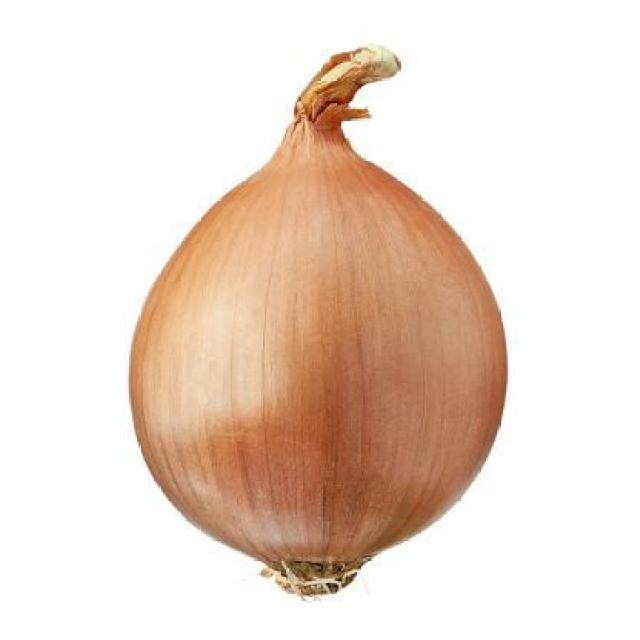onion: (138, 77, 510, 586)
